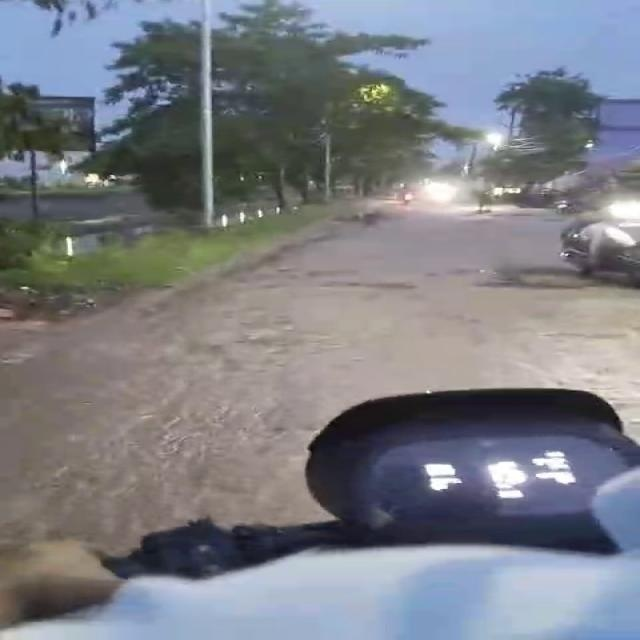pothole: (316, 282, 419, 294), (430, 265, 505, 278), (285, 267, 359, 278)
